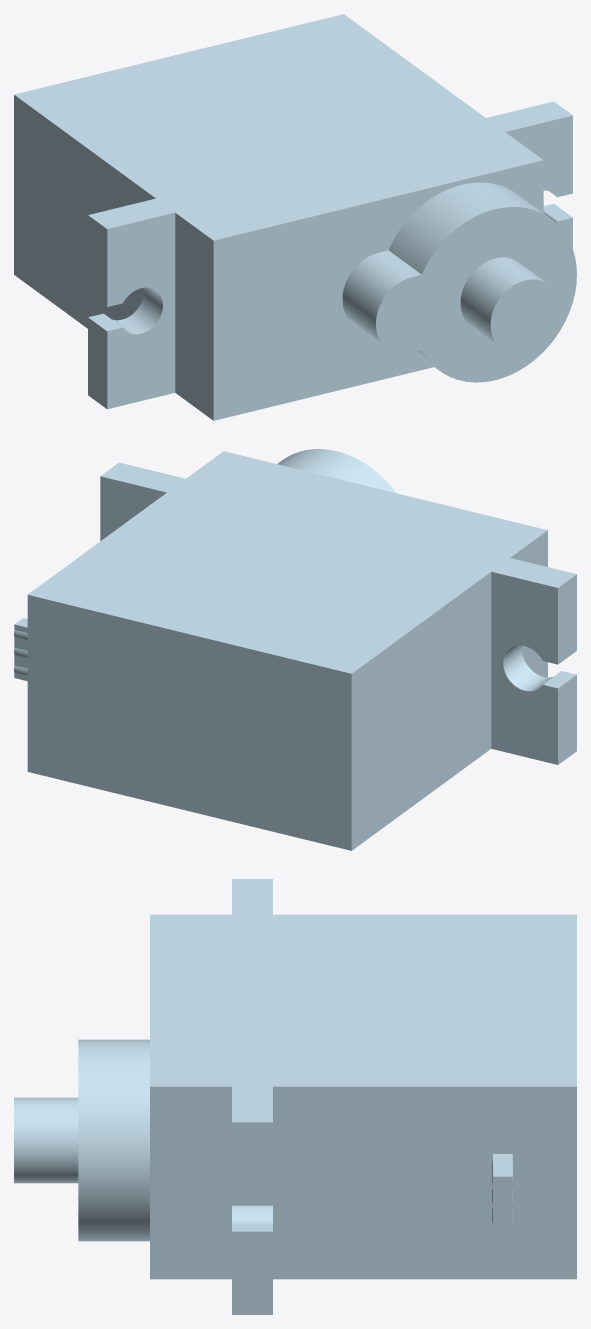
Rendered from mg90s_servo.gltf.
3 views of the same model, one above another, from view 1: azimuth 30°, elevation 25°; view 2: azimuth 150°, elevation 25°; view 3: azimuth 270°, elevation 25° (orthographic). The views are drawn at different scales.
Parts seen in each view (by area): view 1: mesh20, mesh7, mesh2, mesh18, mesh24, mesh9, mesh6, mesh0, mesh10, mesh1, mesh4, mesh21 (+2 smaller); view 2: mesh20, mesh19, mesh18, mesh23, mesh6, mesh16, mesh21, mesh22, mesh9, mesh26; view 3: mesh20, mesh28, mesh8, mesh6, mesh1, mesh11, mesh12, mesh30, mesh14.
Part boxes in pixels (left/top/right/bottom): mesh20: left=14, top=14, right=572, bottom=240; mesh7: left=213, top=160, right=543, bottom=420; mesh2: left=376, top=207, right=576, bottom=382; mesh18: left=14, top=95, right=155, bottom=328; mesh24: left=107, top=212, right=175, bottom=409; mesh9: left=175, top=213, right=213, bottom=420; mesh6: left=388, top=182, right=546, bottom=367; mesh0: left=490, top=279, right=559, bottom=353; mesh10: left=505, top=115, right=572, bottom=248; mesh1: left=460, top=257, right=546, bottom=346; mesh4: left=342, top=253, right=411, bottom=347; mesh21: left=88, top=215, right=107, bottom=306; mesh20: left=28, top=451, right=576, bottom=673; mesh19: left=27, top=595, right=351, bottom=850; mesh18: left=351, top=572, right=491, bottom=850; mesh23: left=491, top=572, right=557, bottom=764; mesh6: left=277, top=449, right=395, bottom=492; mesh16: left=100, top=476, right=166, bottom=540; mesh21: left=558, top=574, right=576, bottom=664; mesh22: left=558, top=675, right=576, bottom=764; mesh9: left=510, top=530, right=547, bottom=677; mesh26: left=503, top=645, right=552, bottom=691; mesh20: left=150, top=879, right=576, bottom=1122; mesh28: left=273, top=1086, right=576, bottom=1279; mesh8: left=150, top=1086, right=231, bottom=1279; mesh6: left=78, top=1039, right=149, bottom=1241; mesh1: left=14, top=1097, right=78, bottom=1183; mesh11: left=232, top=1122, right=272, bottom=1205; mesh12: left=232, top=1231, right=272, bottom=1314; mesh30: left=492, top=1176, right=513, bottom=1234; mesh14: left=232, top=1205, right=272, bottom=1223.
Size of the model in its own units: 0.0322 by 0.0119 by 0.0315.
